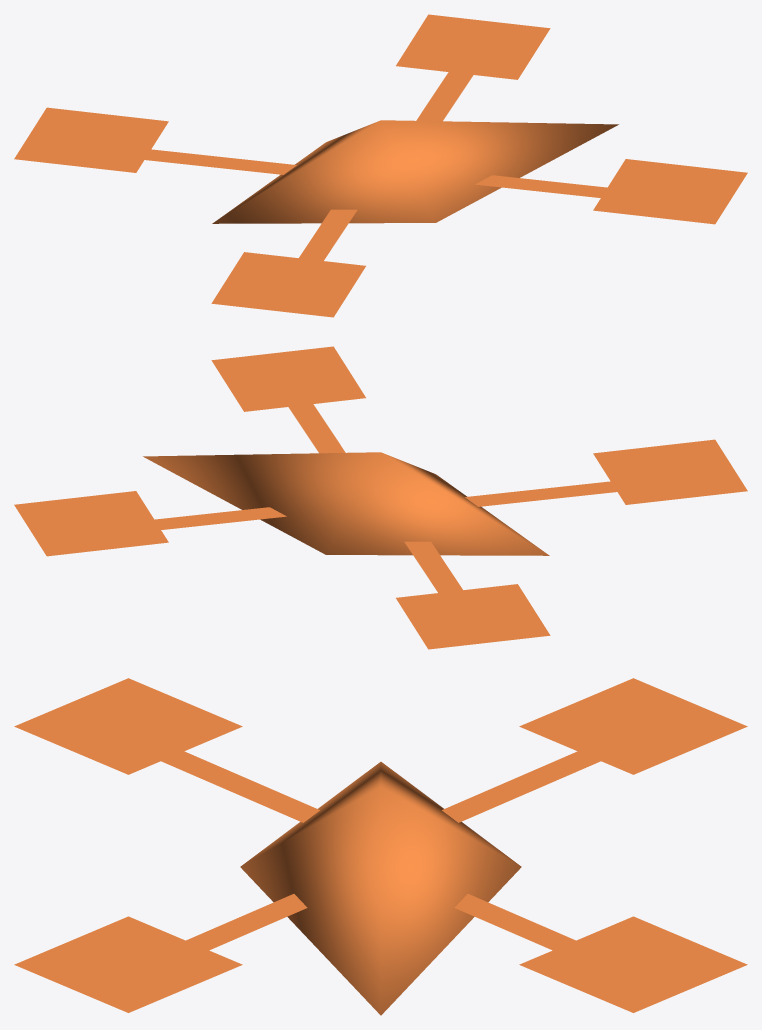
The model's file is geoguard-drone.glb.
The picture shows the model from 3 angles, top to bottom: view 1: azimuth 30°, elevation 25°; view 2: azimuth 150°, elevation 25°; view 3: azimuth 270°, elevation 25°; orthographic projection. The views are drawn at different scales.
Visible parts, largest first — view 1: GeoGuard Drone; view 2: GeoGuard Drone; view 3: GeoGuard Drone.
Boxes of the visible parts, bbox=[...] form: GeoGuard Drone: bbox=[14, 14, 747, 317]; GeoGuard Drone: bbox=[14, 346, 747, 649]; GeoGuard Drone: bbox=[14, 678, 747, 1015].
Size of the model in its own units: 2.7 by 0.48 by 2.5.
